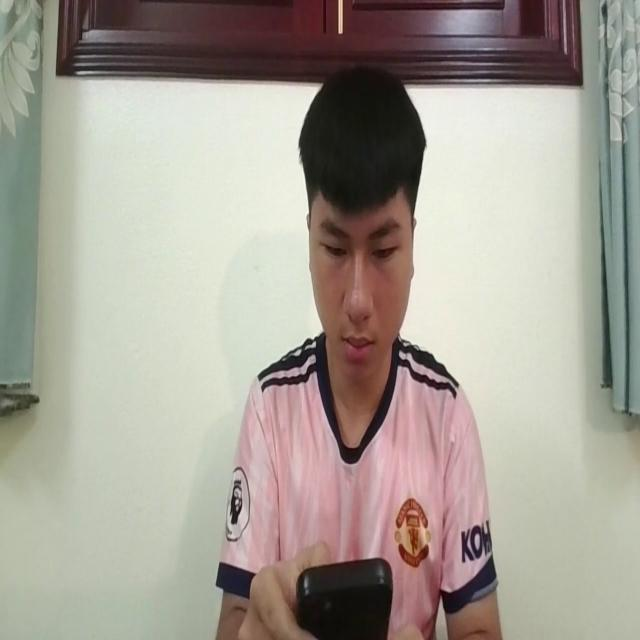phone: (296, 553, 395, 640)
student: (211, 50, 504, 640)
